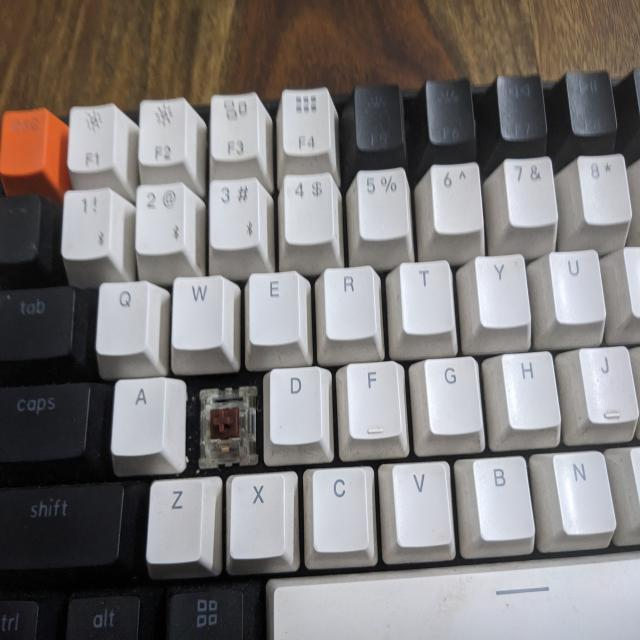key-switch: (194, 391, 258, 465)
